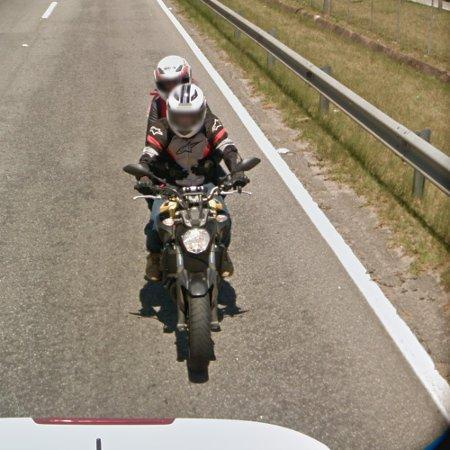motorcycles: (146, 170, 242, 382)
